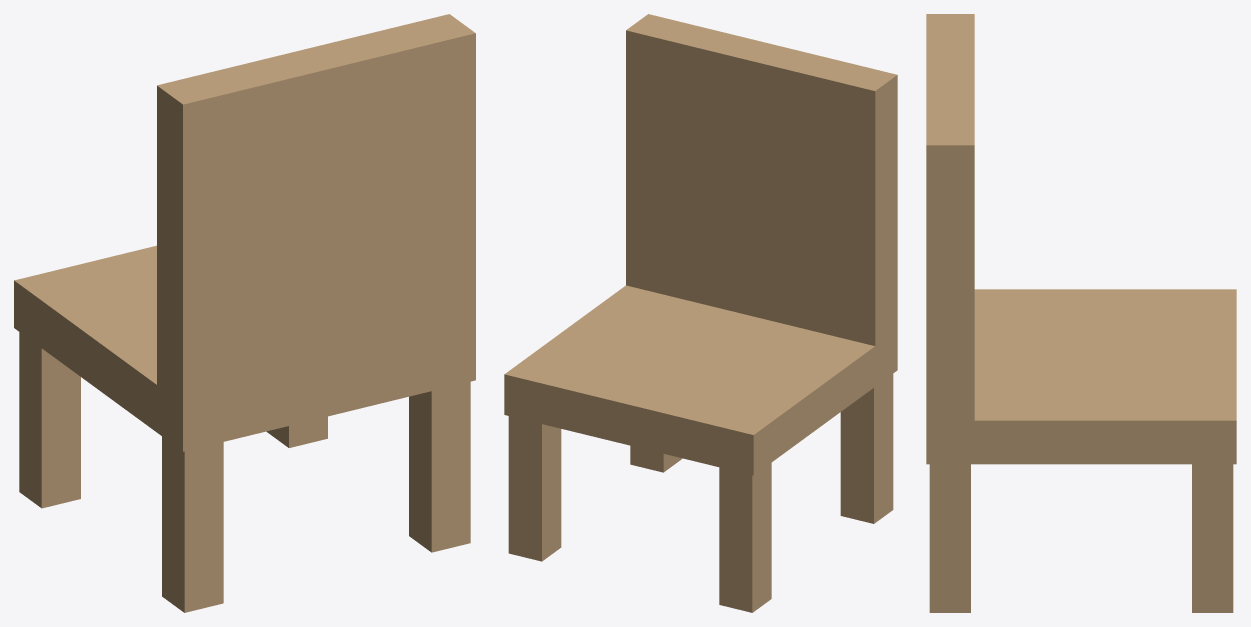
Rendered from chair.glb.
3 views of the same model, side by side, from view 1: azimuth 30°, elevation 25°; view 2: azimuth 150°, elevation 25°; view 3: azimuth 270°, elevation 25° (orthographic). The views are drawn at different scales.
Parts seen in each view (by area): view 1: chair_back, chair_seat, chair_leg_0, chair_leg_1, chair_leg_2, chair_leg_3; view 2: chair_back, chair_seat, chair_leg_2, chair_leg_3, chair_leg_0, chair_leg_1; view 3: chair_seat, chair_back, chair_leg_1, chair_leg_3.
Part boxes in pixels (bbox=[...]): chair_back: bbox=[157, 14, 475, 410]; chair_seat: bbox=[14, 245, 475, 451]; chair_leg_0: bbox=[162, 436, 223, 612]; chair_leg_1: bbox=[409, 381, 470, 552]; chair_leg_2: bbox=[19, 332, 80, 508]; chair_leg_3: bbox=[266, 416, 327, 447]; chair_back: bbox=[626, 14, 897, 351]; chair_seat: bbox=[504, 285, 897, 475]; chair_leg_2: bbox=[719, 463, 771, 612]; chair_leg_3: bbox=[508, 416, 561, 561]; chair_leg_0: bbox=[840, 374, 893, 523]; chair_leg_1: bbox=[630, 445, 682, 472]; chair_seat: bbox=[926, 289, 1236, 464]; chair_back: bbox=[926, 14, 974, 426]; chair_leg_1: bbox=[929, 464, 970, 612]; chair_leg_3: bbox=[1192, 464, 1233, 612].
Size of the model in its own units: 0.9 by 1.5 by 0.9.
